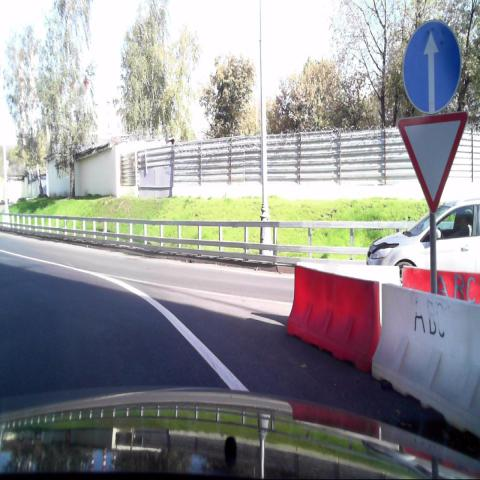4_1_1: (401, 20, 462, 116)
